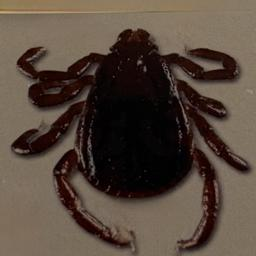Rhipicephalus sanguineus: (10, 29, 251, 251)
